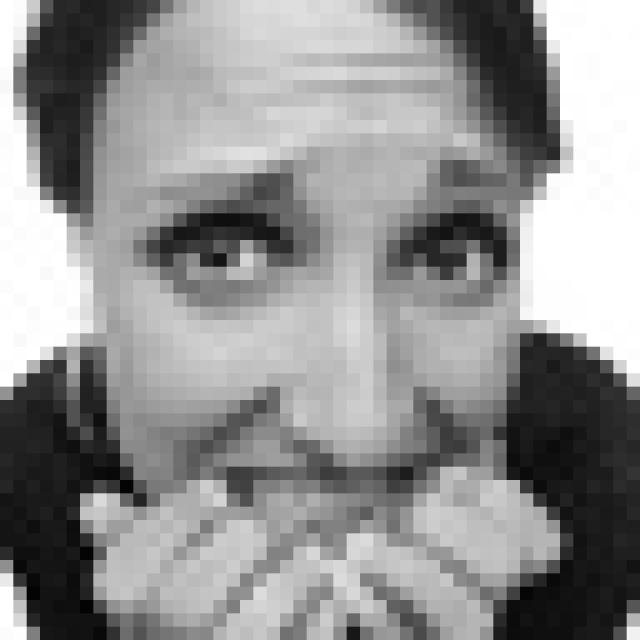fear: (130, 135, 515, 560)
